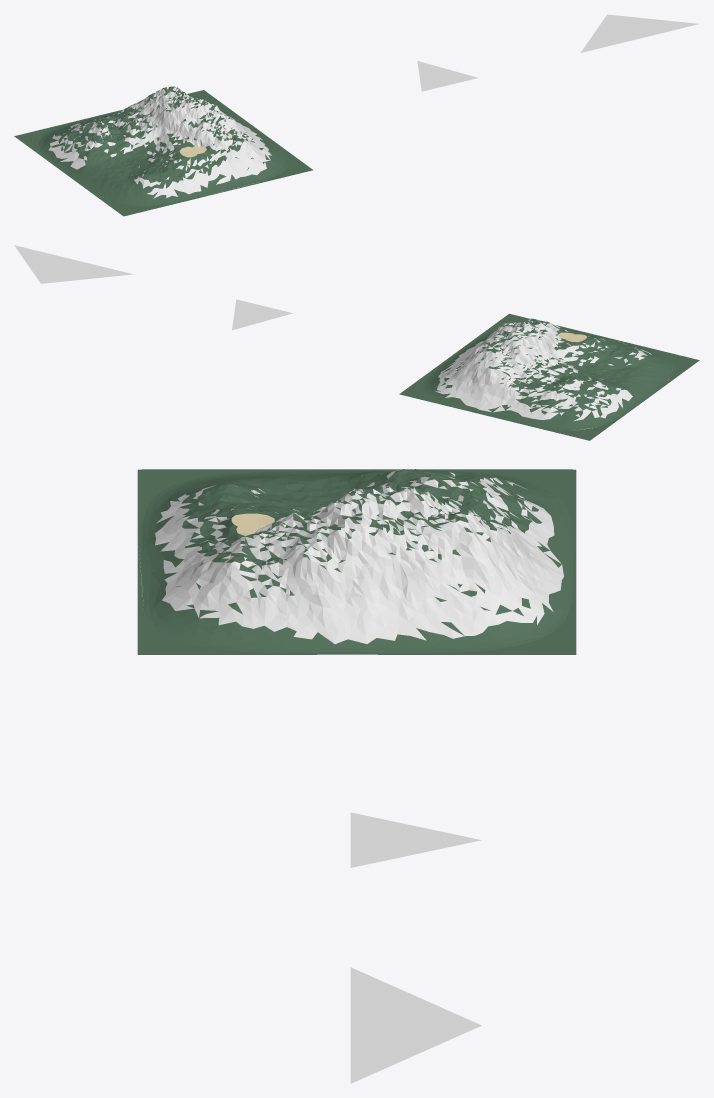
Rendered from Terrain.fbx.
The picture shows the model from 3 angles, top to bottom: view 1: azimuth 30°, elevation 25°; view 2: azimuth 150°, elevation 25°; view 3: azimuth 270°, elevation 25°; orthographic projection. The views are drawn at different scales.
Parts seen in each view (by area): view 1: Landscape, Mountain 2, Mountain 1; view 2: Landscape, Mountain 2, Mountain 1; view 3: Landscape, Mountain 2, Mountain 1.
Boxes of the visible parts, bbox=[...] form: Landscape: bbox=[14, 86, 313, 216]; Mountain 2: bbox=[580, 14, 698, 52]; Mountain 1: bbox=[417, 61, 477, 91]; Landscape: bbox=[399, 313, 699, 440]; Mountain 2: bbox=[14, 245, 132, 283]; Mountain 1: bbox=[232, 299, 292, 330]; Landscape: bbox=[137, 469, 576, 654]; Mountain 2: bbox=[350, 967, 481, 1083]; Mountain 1: bbox=[350, 812, 481, 867].
Size of the model in its own units: 663 by 46.99 by 200.
